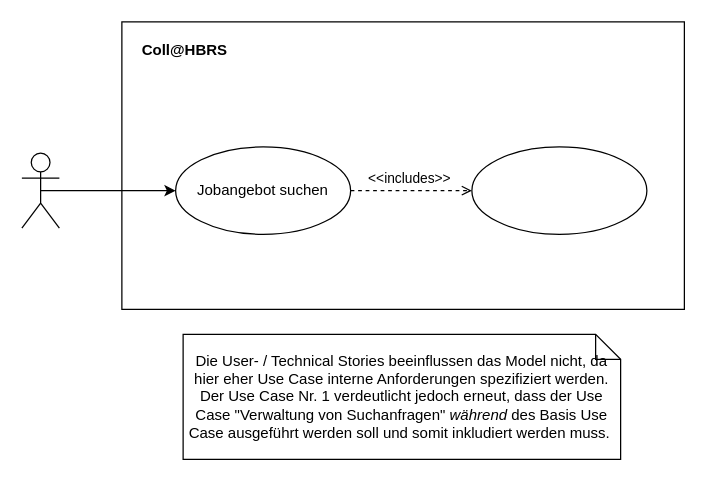
The diagram is 706 pixels wide and 481 high, and some of its shapes have lost their labels. The centre of each missing label's shape, as x and y in pixels:
"Actor" belongs at [40,190].
"Verwaltung von Suchanfragen" belongs at [559,190].
